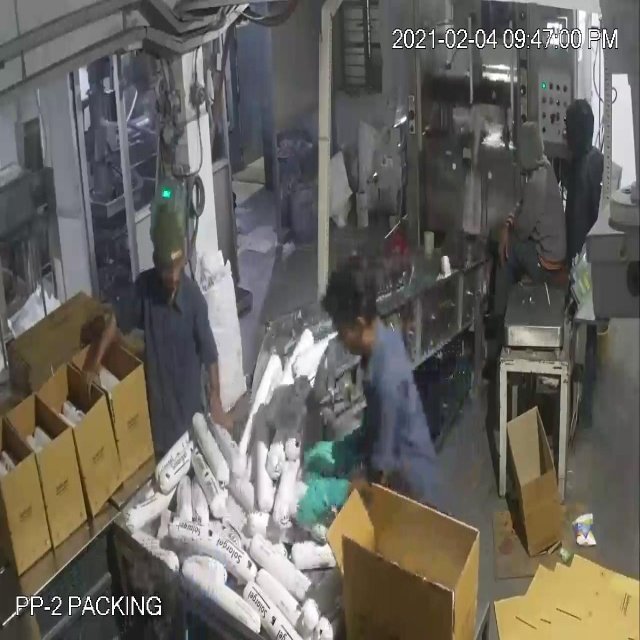Guantes: (291, 477, 358, 531), (300, 428, 371, 477)
Sin_guantes: (81, 301, 129, 404), (195, 326, 230, 434)
